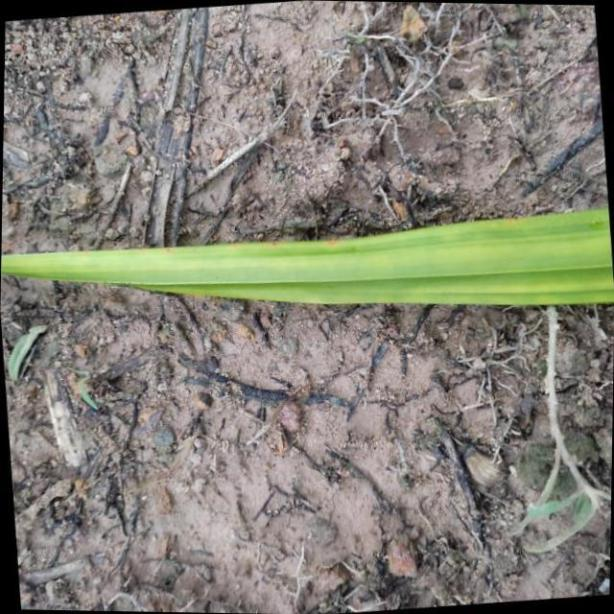nitrogen: (0, 206, 614, 309)
